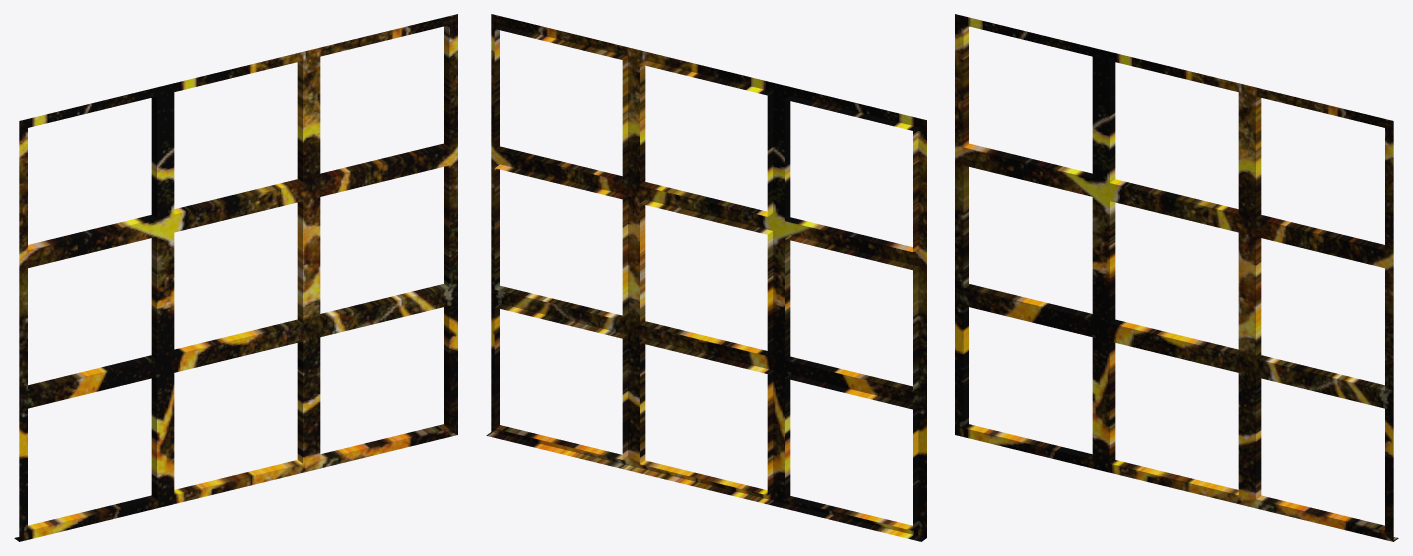
File: barnaklik.glb
3 views of the same model, side by side, from view 1: azimuth 30°, elevation 25°; view 2: azimuth 150°, elevation 25°; view 3: azimuth 330°, elevation 25° (orthographic).
Parts seen in each view (by area): view 1: main.004; view 2: main.004; view 3: main.004.
Part boxes in pixels (x1,y1,x2,y2): main.004: [14, 14, 457, 541]; main.004: [486, 14, 926, 541]; main.004: [955, 14, 1398, 541].
Size of the model in its own units: 1.17 by 1.07 by 0.0245.
Materials: 1 (1 with a texture image).
